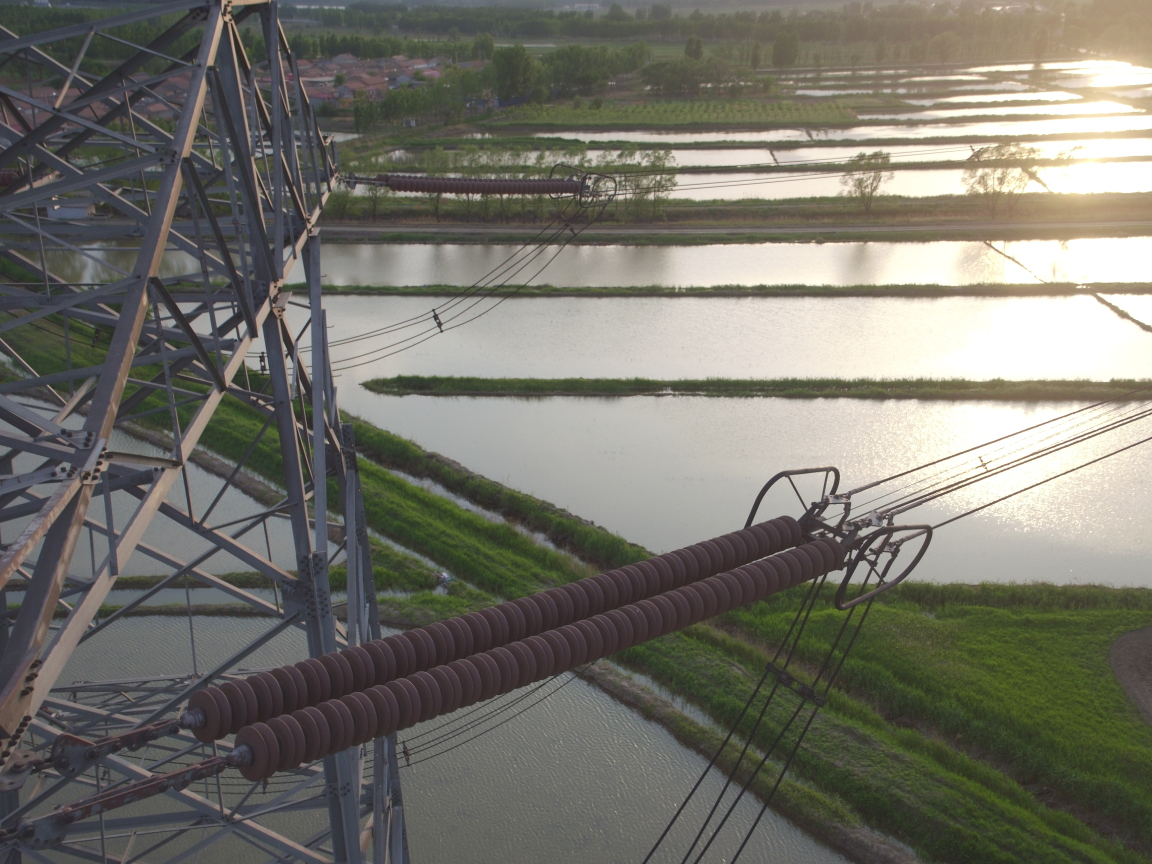insulator: (129, 510, 858, 784)
